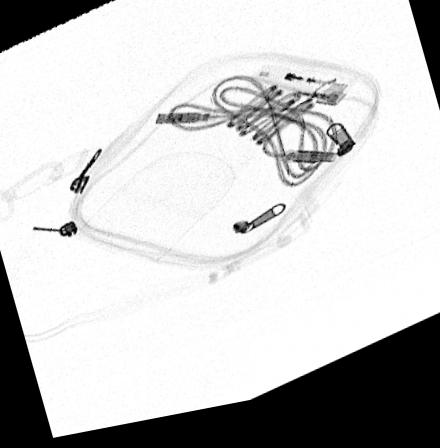Lighter: (257, 69, 353, 118)
